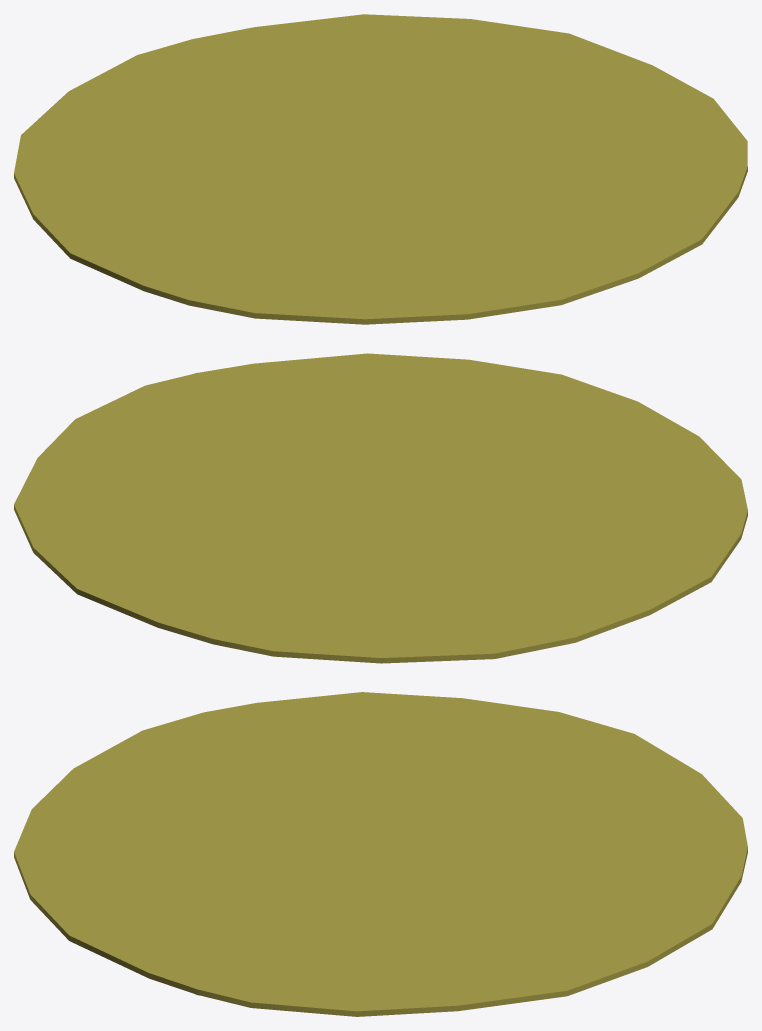
File: Stage_Center-Main-Tent-new.fbx
3 renders of one model, top to bottom at view 1: azimuth 30°, elevation 25°; view 2: azimuth 150°, elevation 25°; view 3: azimuth 270°, elevation 25°, orthographic. The views are drawn at different scales.
Visible parts, largest first — view 1: polySurface4; view 2: polySurface4; view 3: polySurface4.
Part boxes in pixels (x1,y1,x2,y2): polySurface4: (14, 14, 747, 324); polySurface4: (14, 353, 747, 663); polySurface4: (14, 692, 747, 1016).
Size of the model in its own units: 34.15 by 0.2761 by 33.17.
